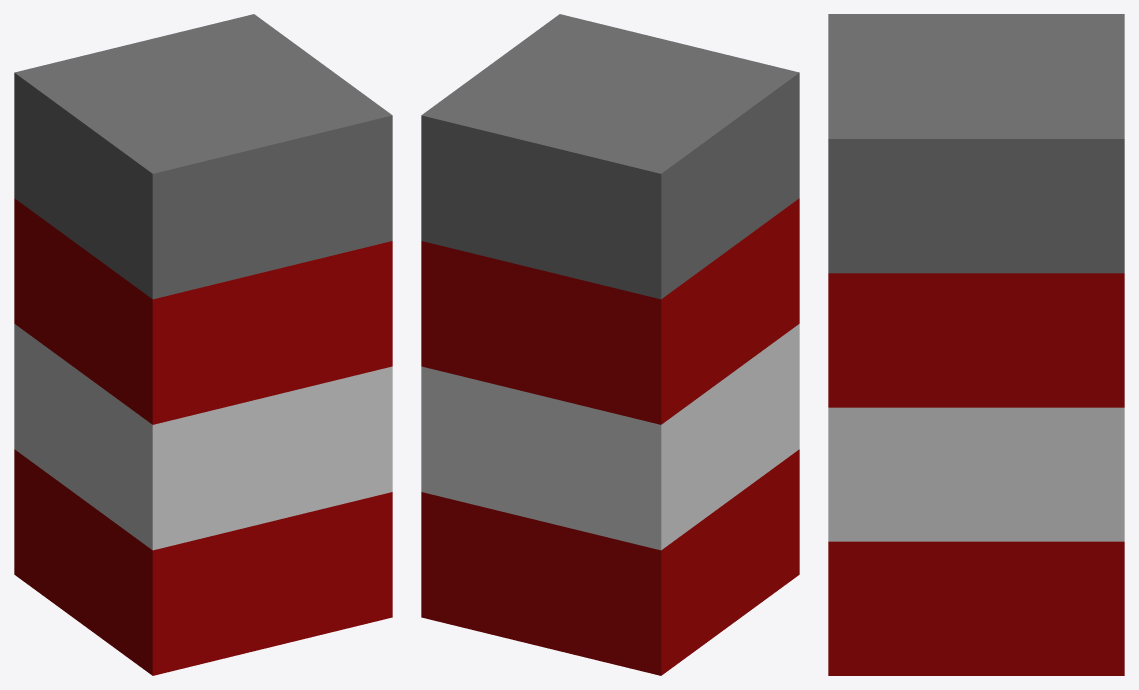
The model's file is F_Garbage3.obj.
3 views of the same model, side by side, from view 1: azimuth 30°, elevation 25°; view 2: azimuth 150°, elevation 25°; view 3: azimuth 270°, elevation 25° (orthographic). The views are drawn at different scales.
Visible parts, largest first — view 1: F_Garbage3; view 2: F_Garbage3; view 3: F_Garbage3.
Part boxes in pixels (box(x1,y1,x2,y2)): F_Garbage3: box(14, 14, 392, 675); F_Garbage3: box(421, 14, 799, 675); F_Garbage3: box(828, 14, 1124, 675).
Size of the model in its own units: 0.2 by 0.4 by 0.2.
Materials: 1 (1 with a texture image).
